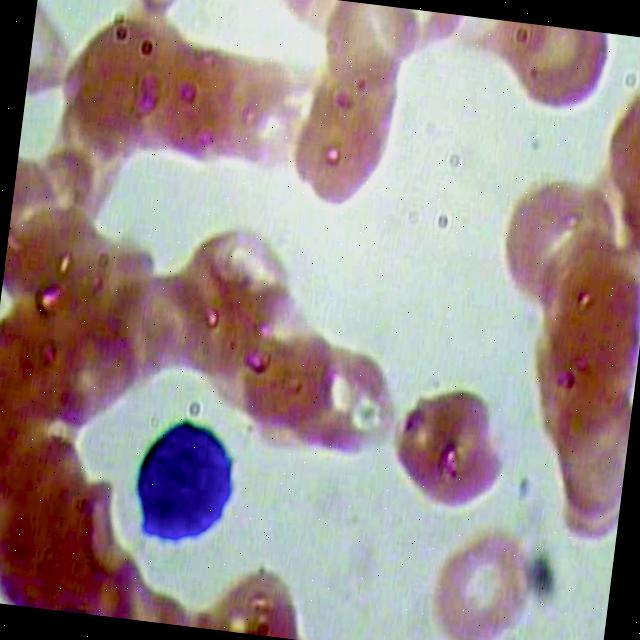RBC: (53, 2, 193, 171), (282, 44, 408, 220), (486, 174, 627, 322), (532, 237, 640, 413), (270, 334, 400, 476), (389, 378, 514, 518), (464, 17, 618, 120), (0, 207, 120, 331), (417, 523, 543, 640), (195, 45, 302, 180), (122, 270, 222, 388), (309, 0, 418, 105), (544, 392, 632, 522)
WBC: (112, 406, 248, 564)
